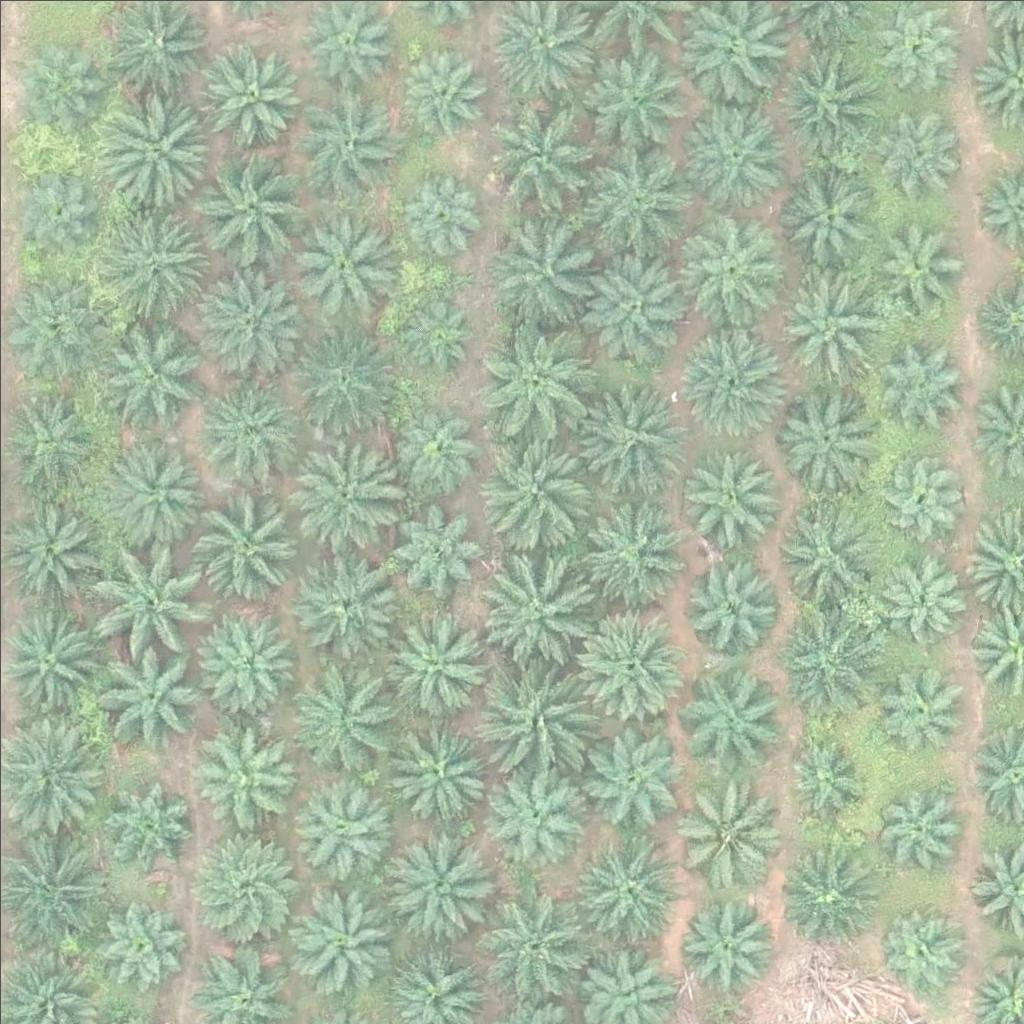Kelapa_Sawit: (291, 540, 404, 654), (573, 383, 686, 497), (98, 435, 211, 548), (94, 318, 207, 431), (101, 202, 214, 315), (188, 488, 301, 601), (483, 658, 596, 771), (474, 429, 587, 542), (580, 248, 693, 361), (573, 494, 686, 607), (676, 657, 789, 770), (674, 322, 787, 435), (768, 260, 881, 373), (770, 502, 883, 615), (769, 602, 882, 715), (193, 837, 306, 950), (286, 880, 399, 993), (575, 836, 688, 949), (185, 35, 297, 149), (480, 323, 592, 437), (771, 45, 883, 159), (97, 539, 209, 652), (95, 89, 207, 202), (194, 157, 306, 270), (198, 266, 310, 379), (285, 659, 397, 772), (284, 427, 396, 540), (285, 325, 397, 438), (284, 206, 396, 319), (295, 85, 407, 198), (379, 606, 491, 719), (478, 546, 590, 659), (489, 214, 601, 327), (484, 104, 596, 217), (582, 49, 694, 162), (583, 140, 695, 253), (575, 610, 687, 723), (676, 93, 788, 206), (381, 831, 493, 944), (477, 886, 589, 999), (667, 773, 779, 886), (7, 269, 107, 370), (195, 373, 295, 474), (189, 610, 289, 711), (384, 496, 484, 597), (684, 551, 784, 652), (676, 447, 776, 548), (680, 210, 780, 311), (784, 166, 884, 267), (773, 383, 873, 484), (99, 778, 199, 879), (200, 728, 300, 829), (291, 779, 391, 880), (394, 717, 494, 818), (485, 762, 585, 863), (585, 727, 685, 828), (673, 893, 773, 994), (106, 640, 206, 740), (86, 898, 186, 998), (779, 840, 879, 940), (882, 660, 970, 748), (878, 548, 966, 636), (873, 222, 961, 310), (868, 102, 956, 190), (782, 739, 870, 827), (12, 166, 99, 254), (16, 50, 103, 138), (396, 48, 483, 136), (396, 172, 483, 260), (385, 405, 472, 493), (877, 451, 964, 539), (876, 332, 963, 420), (876, 785, 963, 873), (879, 908, 966, 996), (399, 294, 474, 370)
